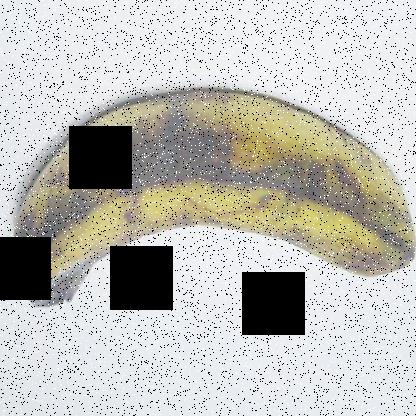overripe: (1, 56, 415, 342)
